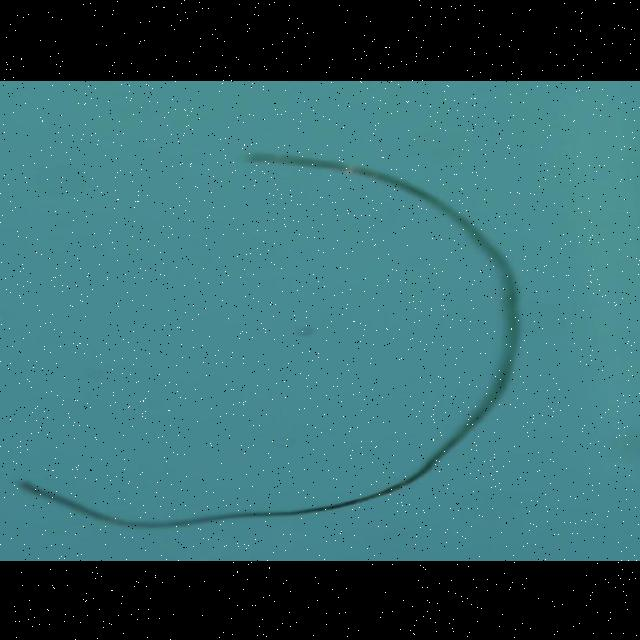Fibre: (19, 150, 525, 528)
